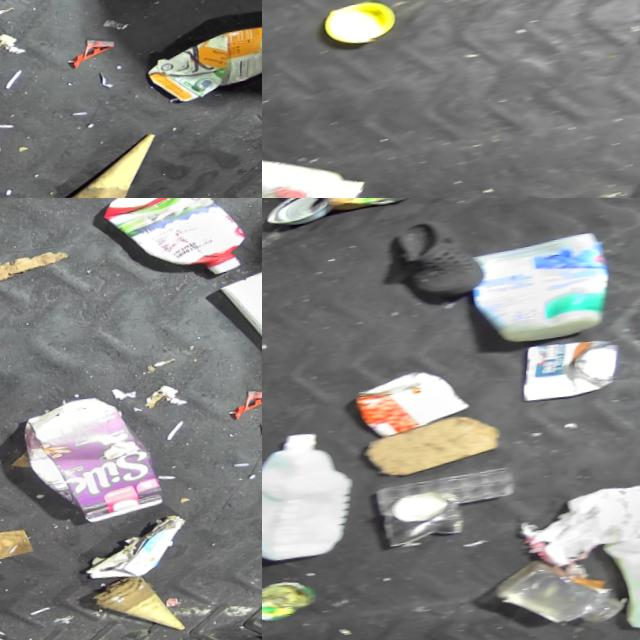can: (348, 369, 470, 447), (515, 341, 622, 413), (381, 492, 462, 552), (262, 578, 315, 629), (262, 198, 331, 232), (325, 198, 417, 217)
milk_jug: (262, 427, 354, 568), (596, 508, 640, 640)
non_white_jug: (138, 38, 262, 119)
